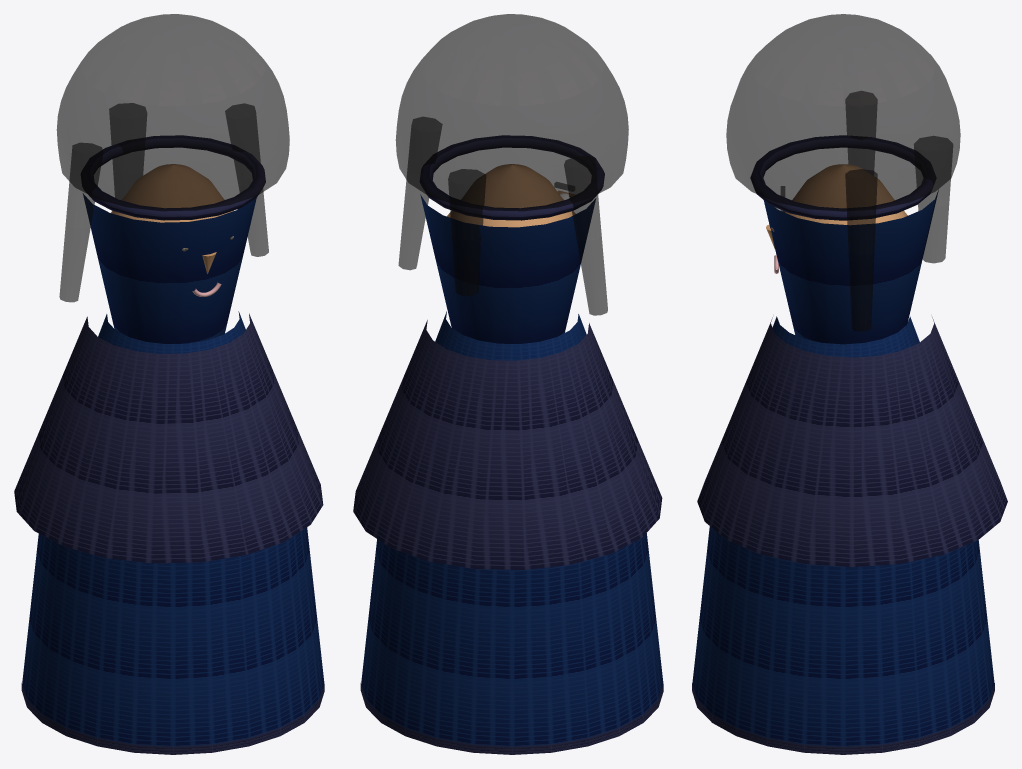
File: mary_magdalene.glb
The picture shows the model from 3 angles, left to right: view 1: azimuth 30°, elevation 25°; view 2: azimuth 150°, elevation 25°; view 3: azimuth 270°, elevation 25°; orthographic projection.
Visible parts, largest first — view 1: Character_mary_magdalene, head; view 2: Character_mary_magdalene, head; view 3: Character_mary_magdalene, head.
Part boxes in pixels (left/top/right/bottom): Character_mary_magdalene: left=14, top=14, right=324, bottom=754; head: left=111, top=164, right=233, bottom=222; Character_mary_magdalene: left=353, top=14, right=663, bottom=754; head: left=447, top=164, right=575, bottom=227; Character_mary_magdalene: left=692, top=14, right=1007, bottom=754; head: left=783, top=164, right=907, bottom=224.
Bounding box in the file's own units: 0.7608 × 1.8 × 0.7734.
Materials: 12 (8 with a texture image).
